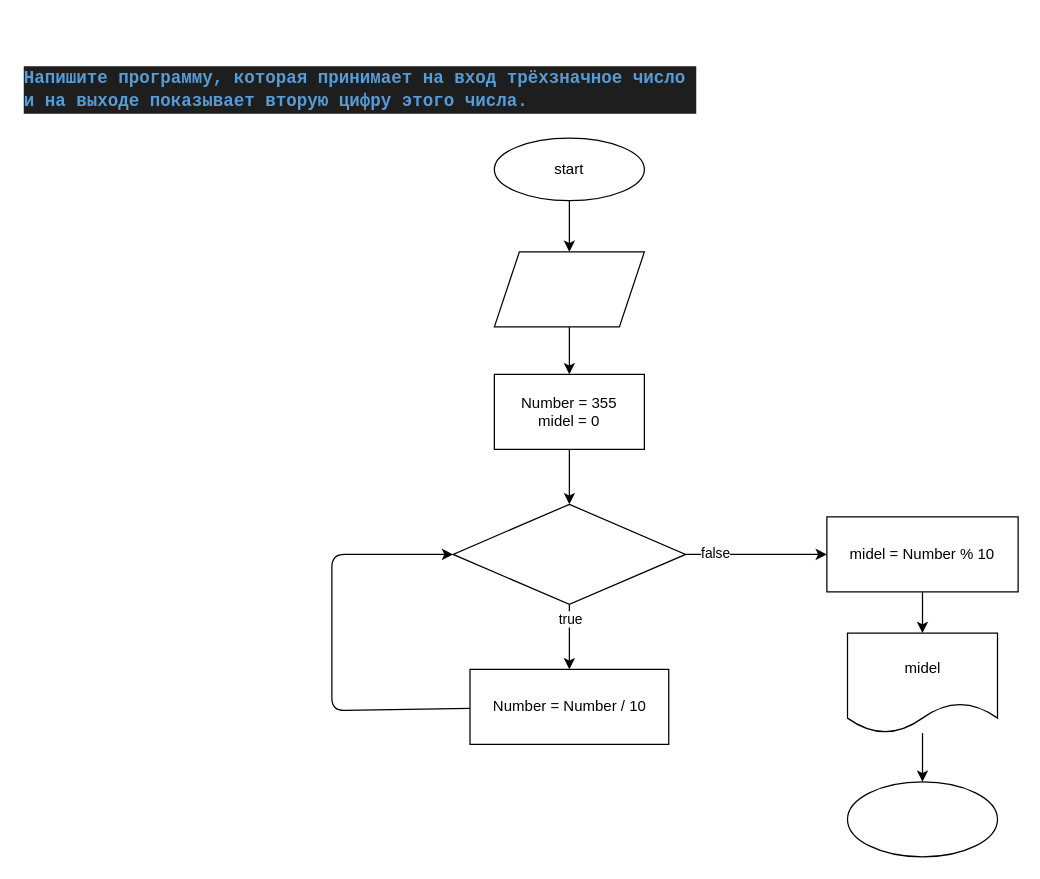
The diagram is 1040 pixels wide and 879 high, and some of its shapes have lost their labels. The box of each missing label's shape, as (x1, y1, x2, y2) in pixels:
end: (846, 781, 998, 857)
Number: (493, 251, 644, 327)
Number > = 100: (452, 503, 686, 604)
